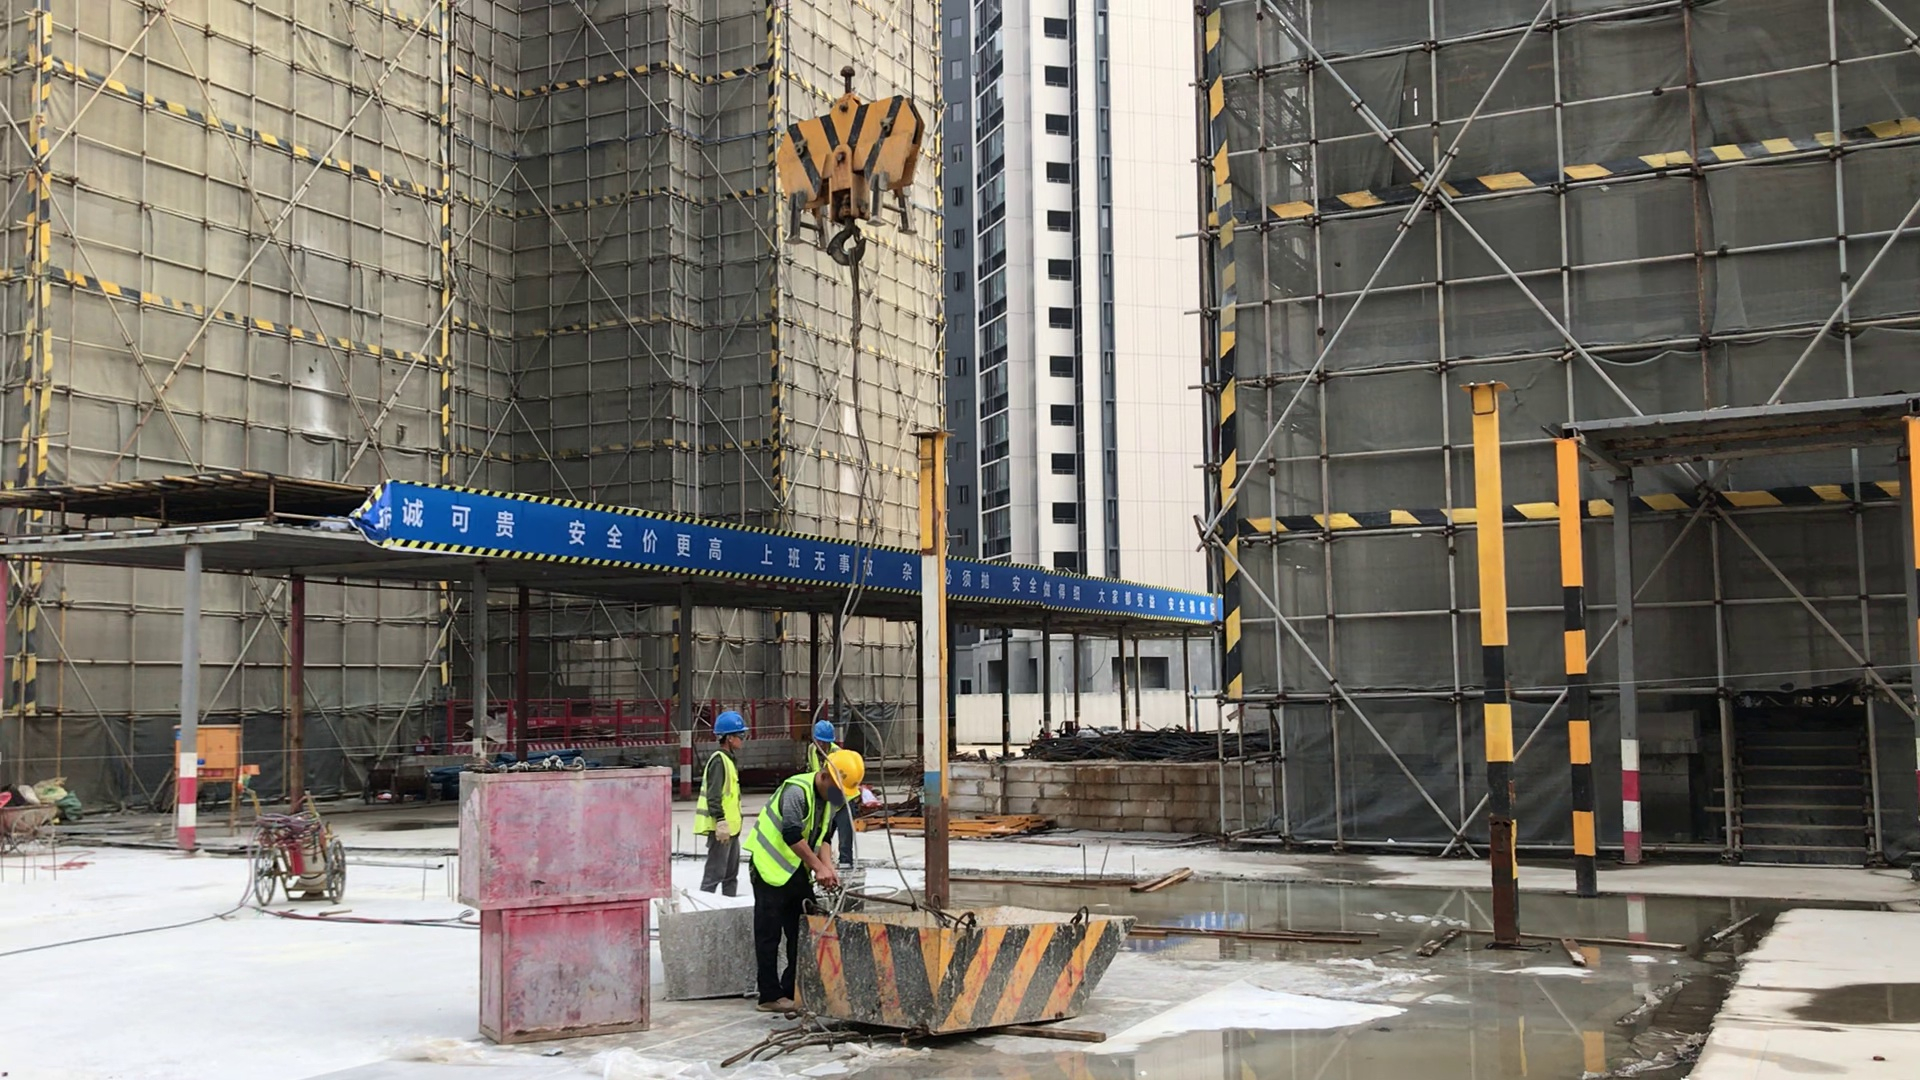ebox: (200, 717, 243, 842)
fence: (387, 485, 915, 595), (951, 557, 1211, 620), (534, 695, 665, 752), (752, 697, 799, 745)
handcart: (244, 783, 351, 909), (3, 795, 58, 858)
helmet: (822, 750, 865, 798), (714, 713, 749, 736), (813, 719, 835, 743)
hook: (778, 60, 922, 268)
hopper: (798, 903, 1145, 1039), (656, 890, 752, 1004)
person: (740, 750, 867, 1011), (697, 708, 751, 898)
vest: (740, 769, 832, 888), (698, 750, 743, 840)
